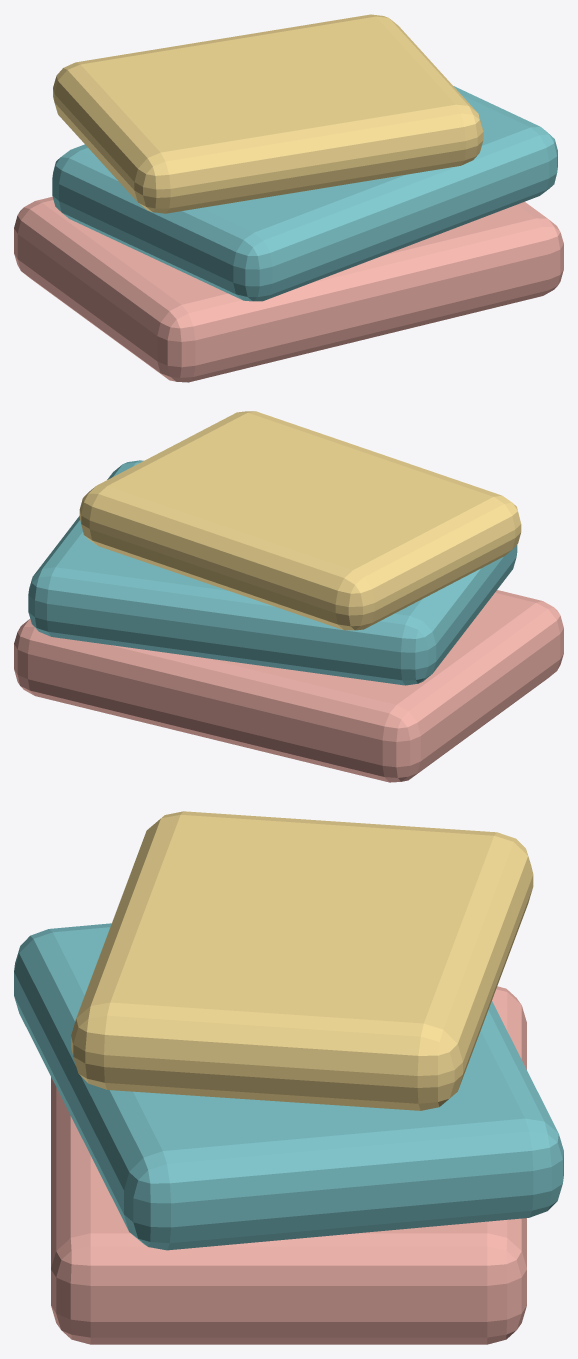
File: Books.fbx
The picture shows the model from 3 angles, top to bottom: view 1: azimuth 30°, elevation 25°; view 2: azimuth 150°, elevation 25°; view 3: azimuth 270°, elevation 25°; orthographic projection. The views are drawn at different scales.
Visible parts, largest first — view 1: Books; view 2: Books; view 3: Books.
Part boxes in pixels (box(x1,y1,x2,y2)): Books: box(14, 14, 563, 382); Books: box(14, 411, 563, 782); Books: box(14, 811, 563, 1344).
Bounding box in the file's own units: 0.262 × 0.12 × 0.2079.
